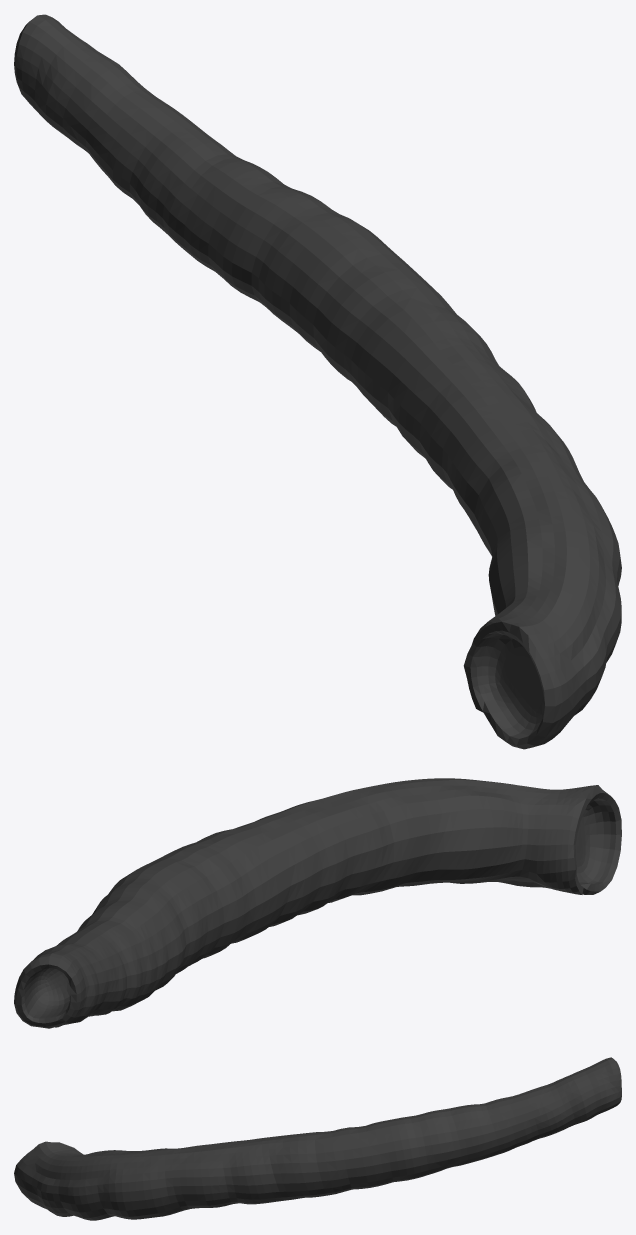
Rendered from L_dorsal_colon.glb.
The picture shows the model from 3 angles, top to bottom: view 1: azimuth 30°, elevation 25°; view 2: azimuth 150°, elevation 25°; view 3: azimuth 270°, elevation 25°; orthographic projection. The views are drawn at different scales.
Visible parts, largest first — view 1: L_dorsal_colon; view 2: L_dorsal_colon; view 3: L_dorsal_colon.
Boxes of the visible parts, box(x1,y1,x2,y2) form: L_dorsal_colon: box(14, 14, 621, 749); L_dorsal_colon: box(14, 778, 621, 1028); L_dorsal_colon: box(14, 1057, 621, 1220).
Size of the model in its own units: 0.3112 by 0.399 by 1.36.
1 material, 1 textured.
